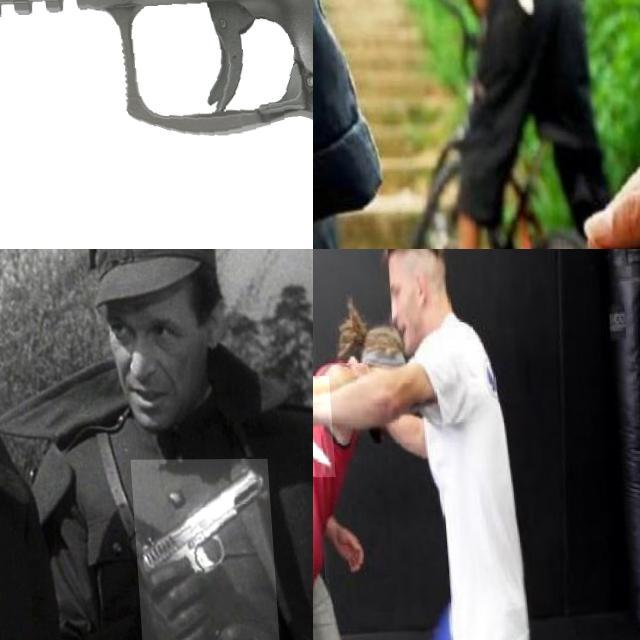-: (313, 6, 402, 249), (313, 376, 349, 477)
gun-knife-thesis - v11 Yolov5 augmented: (0, 0, 313, 249), (125, 459, 273, 640)
